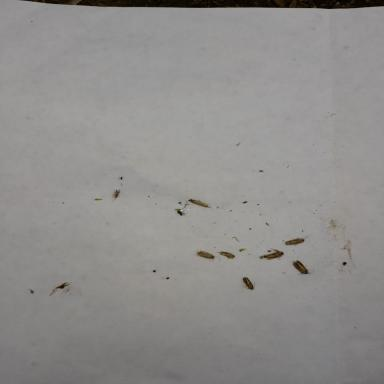pbw: (262, 246, 286, 261), (182, 198, 212, 209), (292, 259, 313, 274), (197, 250, 220, 262), (284, 234, 311, 244), (240, 276, 256, 290), (217, 251, 235, 258)
